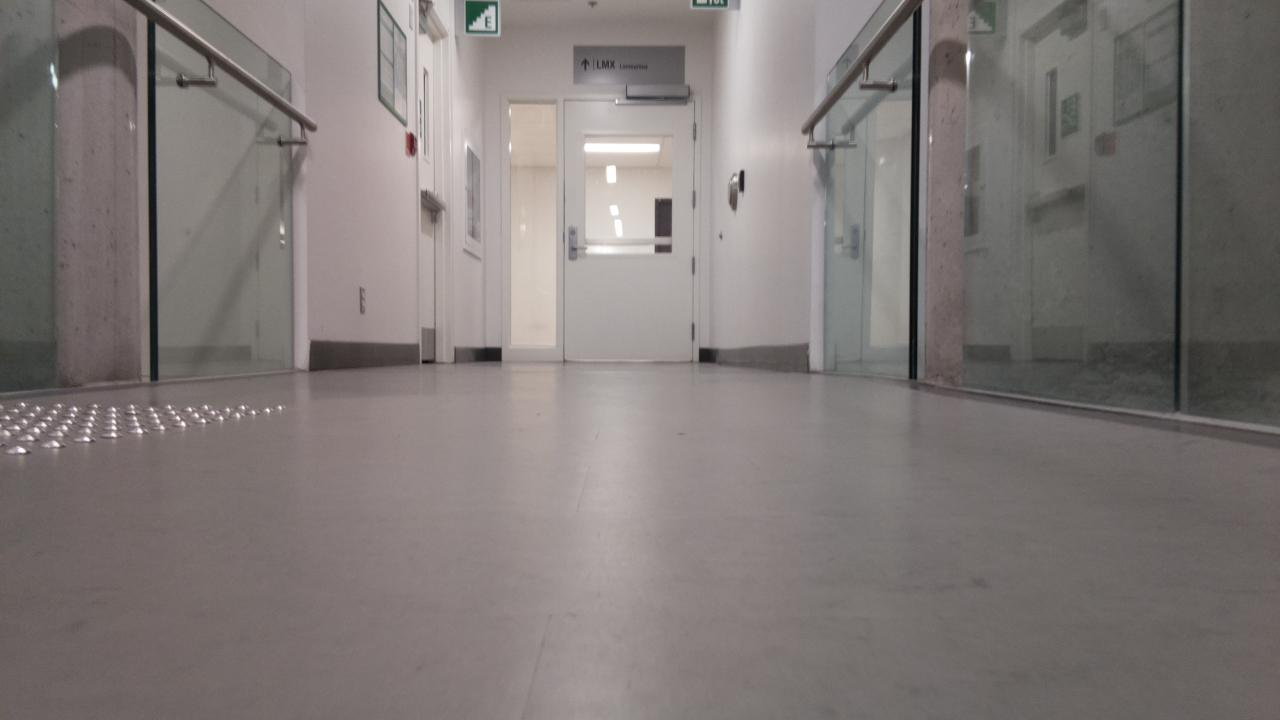door: (564, 100, 694, 361)
sign: (466, 2, 497, 33), (693, 0, 727, 6)
